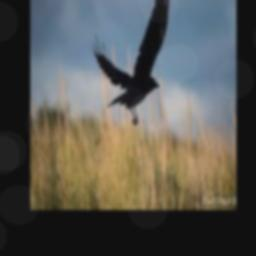Crow: (91, 0, 170, 126)
